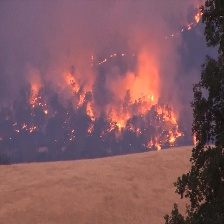fire: (168, 114, 185, 146), (166, 23, 191, 40), (31, 93, 49, 113), (86, 101, 99, 122), (14, 122, 37, 133), (113, 119, 129, 134), (148, 139, 163, 153), (194, 9, 205, 25), (69, 76, 80, 92), (109, 51, 129, 59), (85, 124, 95, 136), (193, 133, 200, 147), (99, 57, 108, 66), (148, 95, 157, 103)
smoke: (15, 7, 206, 102)
